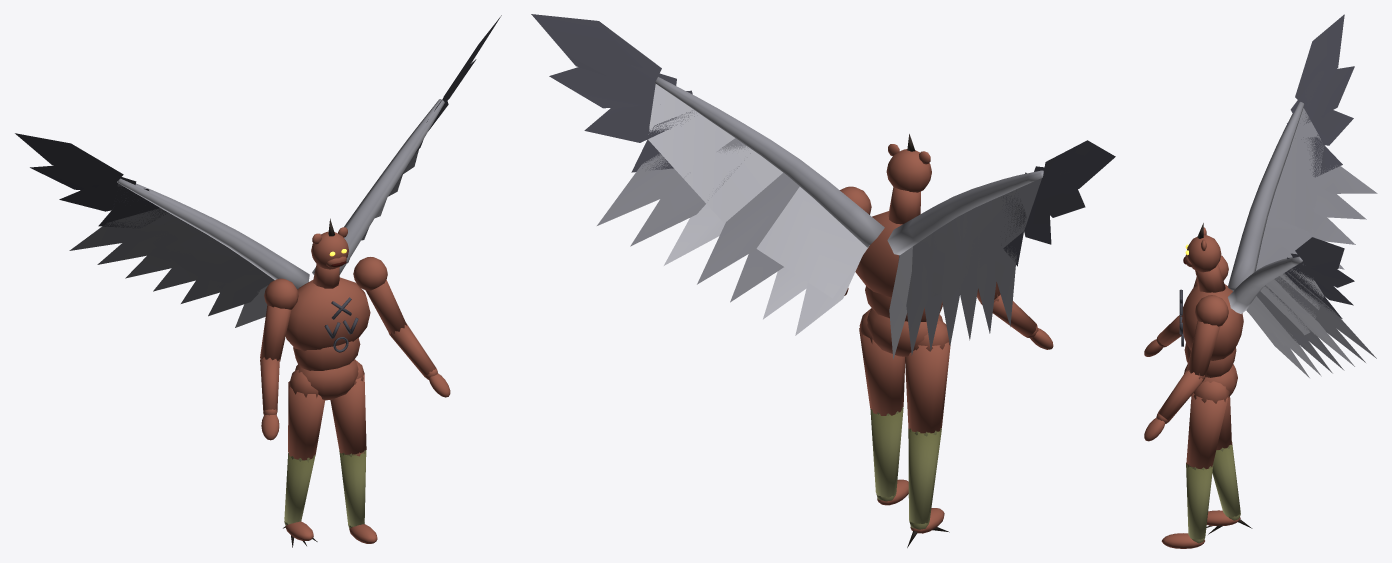
The model's file is cornutus.glb.
The picture shows the model from 3 angles, left to right: view 1: azimuth 30°, elevation 25°; view 2: azimuth 150°, elevation 25°; view 3: azimuth 270°, elevation 25°; orthographic projection. The views are drawn at different scales.
Parts seen in each view (by area): view 1: wing_R, torso, wing_L, thigh_R, thigh_L, upperarm_R, upperarm_L, shin_L, shin_R, pelvis, head, forearm_L (+1 smaller); view 2: wing_L, wing_R, thigh_R, torso, thigh_L, shin_R, shin_L, head, pelvis, forearm_R; view 3: wing_R, wing_L, torso, thigh_L, upperarm_L, shin_L, shin_R, head, forearm_L, foot_L, thigh_R, foot_R (+3 smaller).
Boxes of the visible parts, x1=… form: wing_R: x1=15, y1=133, x2=309, y2=327; torso: x1=285, y1=264, x2=370, y2=370; wing_L: x1=312, y1=15, x2=501, y2=274; thigh_R: x1=288, y1=370, x2=325, y2=460; thigh_L: x1=330, y1=359, x2=366, y2=456; upperarm_R: x1=260, y1=278, x2=298, y2=361; upperarm_L: x1=353, y1=257, x2=406, y2=334; shin_L: x1=339, y1=450, x2=366, y2=528; shin_R: x1=284, y1=453, x2=315, y2=525; pelvis: x1=295, y1=359, x2=358, y2=400; head: x1=311, y1=218, x2=348, y2=269; forearm_L: x1=388, y1=323, x2=437, y2=379; wing_L: x1=531, y1=14, x2=884, y2=335; wing_R: x1=887, y1=140, x2=1115, y2=359; thigh_R: x1=905, y1=321, x2=950, y2=433; torso: x1=855, y1=187, x2=942, y2=321; thigh_L: x1=859, y1=308, x2=905, y2=415; shin_R: x1=908, y1=428, x2=941, y2=529; shin_L: x1=870, y1=407, x2=903, y2=501; head: x1=886, y1=134, x2=931, y2=192; pelvis: x1=867, y1=308, x2=942, y2=356; forearm_R: x1=992, y1=294, x2=1038, y2=338; wing_R: x1=1228, y1=14, x2=1377, y2=291; wing_L: x1=1228, y1=237, x2=1376, y2=377; torso: x1=1179, y1=264, x2=1243, y2=377; thigh_L: x1=1186, y1=381, x2=1229, y2=469; upperarm_L: x1=1187, y1=295, x2=1228, y2=378; shin_L: x1=1186, y1=463, x2=1213, y2=543; shin_R: x1=1212, y1=441, x2=1240, y2=520; head: x1=1183, y1=223, x2=1221, y2=272; forearm_L: x1=1156, y1=369, x2=1205, y2=423; foot_L: x1=1161, y1=533, x2=1204, y2=548; thigh_R: x1=1216, y1=396, x2=1232, y2=449; foot_R: x1=1206, y1=510, x2=1252, y2=534.
Bounding box in the file's own units: 3.78 × 3.07 × 1.59.
